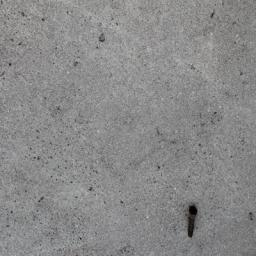FOD: (186, 203, 201, 240)
